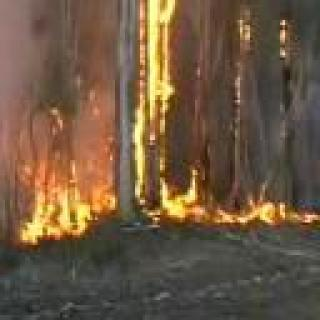fire: (0, 154, 313, 242), (137, 0, 178, 153), (229, 9, 260, 63), (275, 4, 292, 65)
